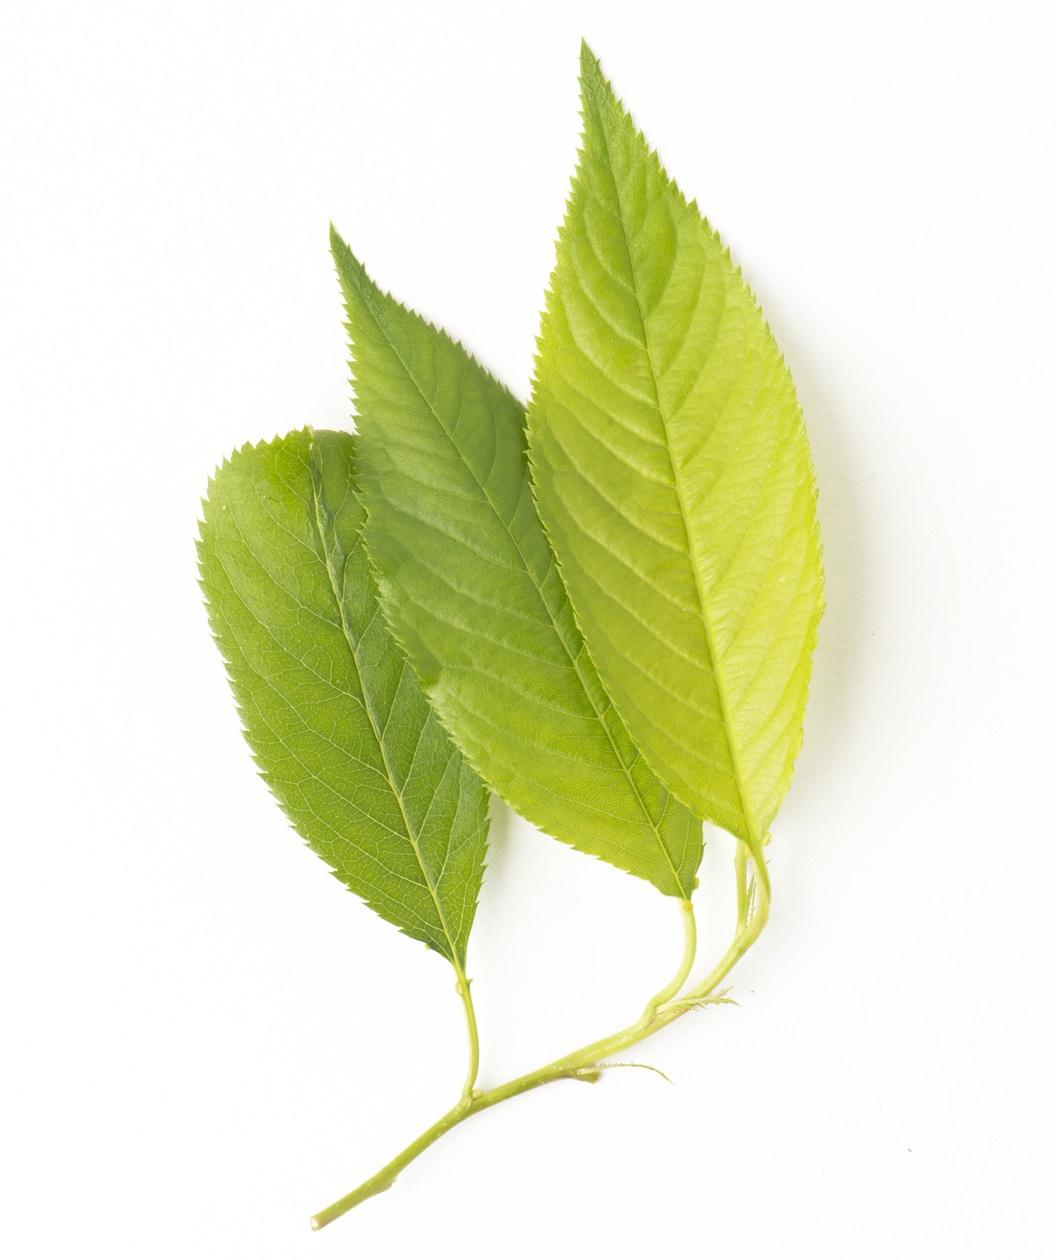Cherry leaf: (521, 25, 860, 902), (317, 198, 720, 918), (177, 396, 520, 1004)
